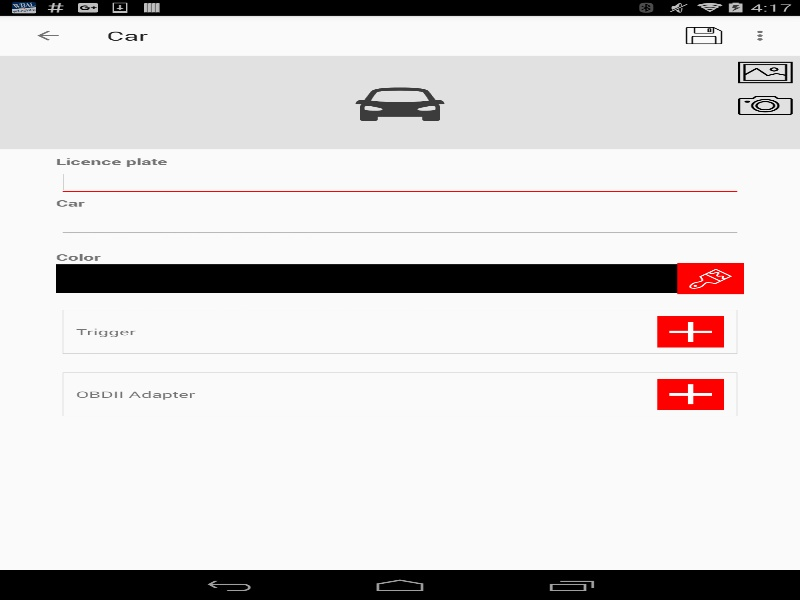Button: (10, 15, 85, 55), (657, 378, 724, 410), (677, 263, 744, 294), (657, 316, 724, 347), (733, 57, 797, 87), (733, 90, 797, 120)
Input: (57, 209, 742, 238), (57, 168, 742, 196), (56, 264, 677, 292)
